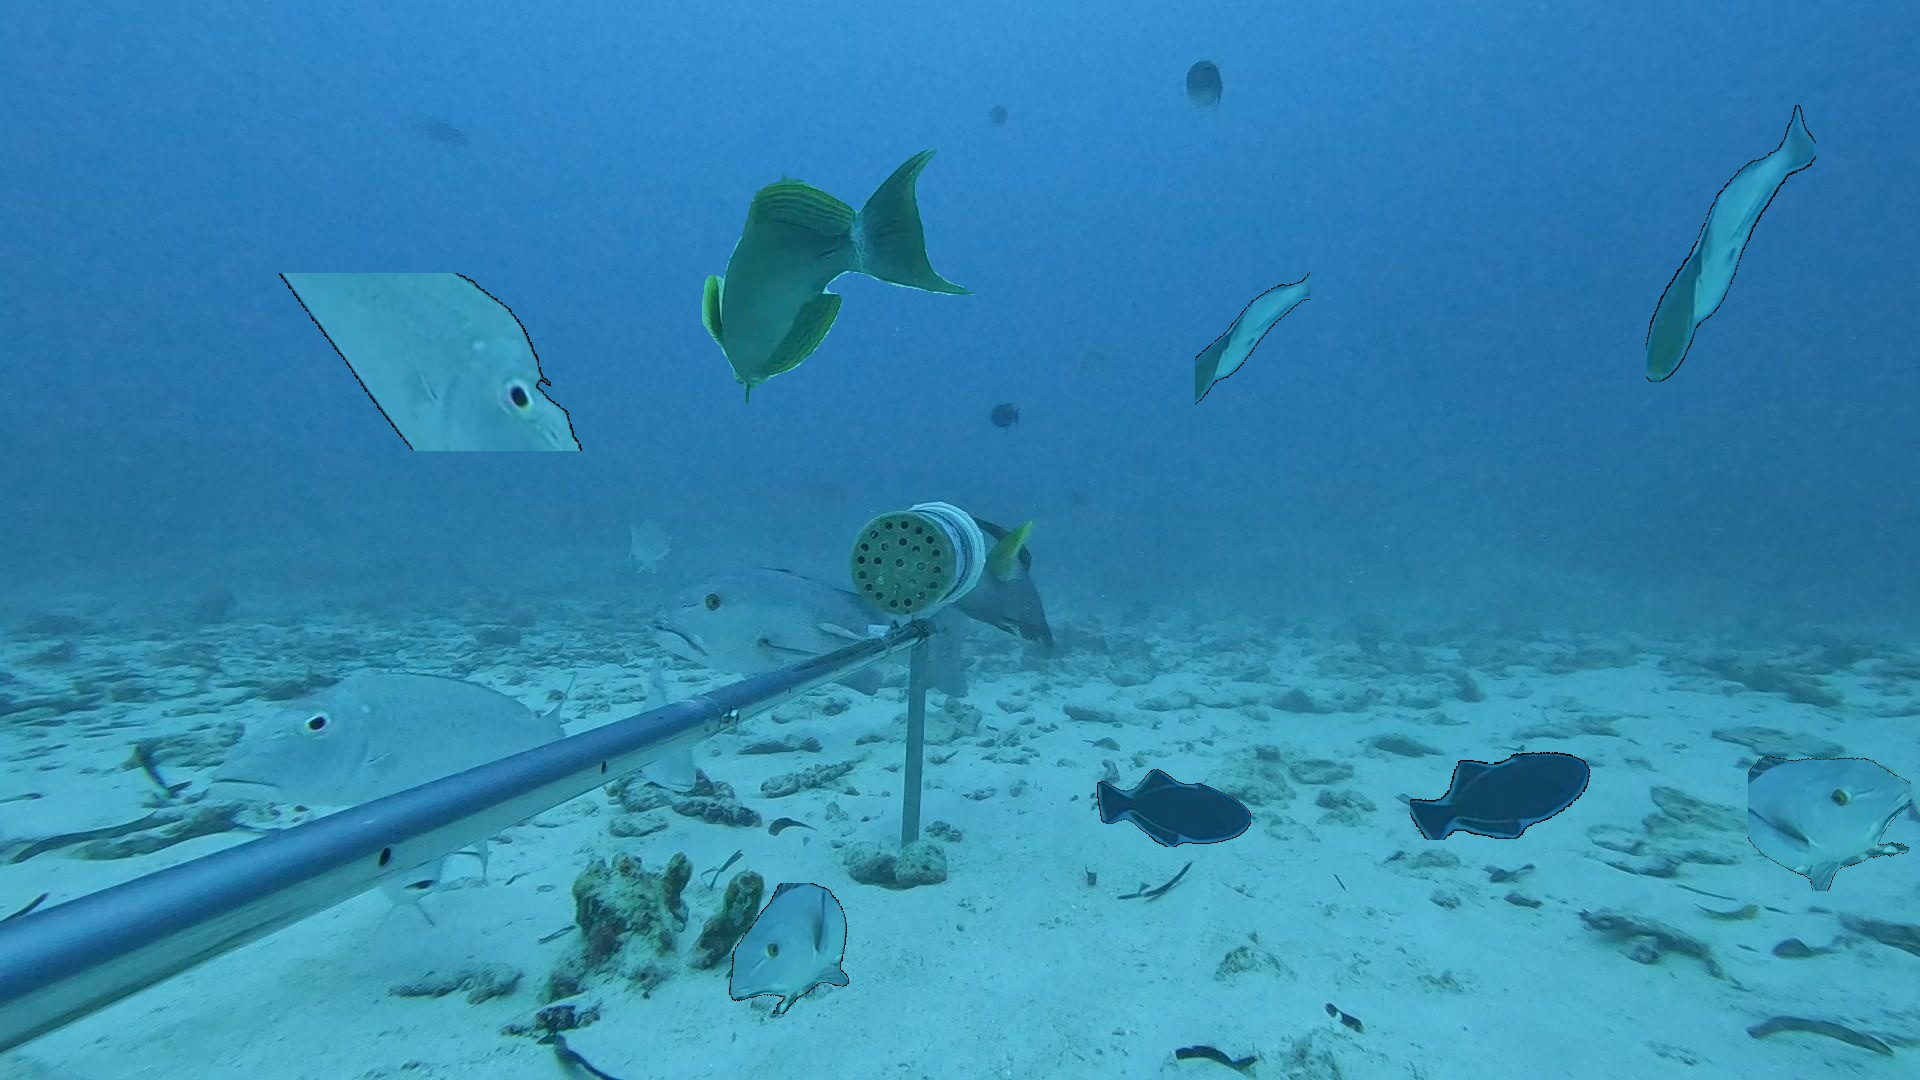fish: (206, 273, 655, 451), (702, 148, 975, 406), (210, 670, 576, 818), (1646, 105, 1816, 382), (658, 558, 890, 702), (1749, 727, 1911, 891), (887, 497, 1054, 649), (1195, 241, 1309, 429), (720, 884, 851, 1014), (1410, 748, 1592, 840), (1097, 769, 1251, 847), (1167, 46, 1241, 127), (617, 512, 683, 582), (414, 105, 476, 162), (980, 392, 1030, 440)
